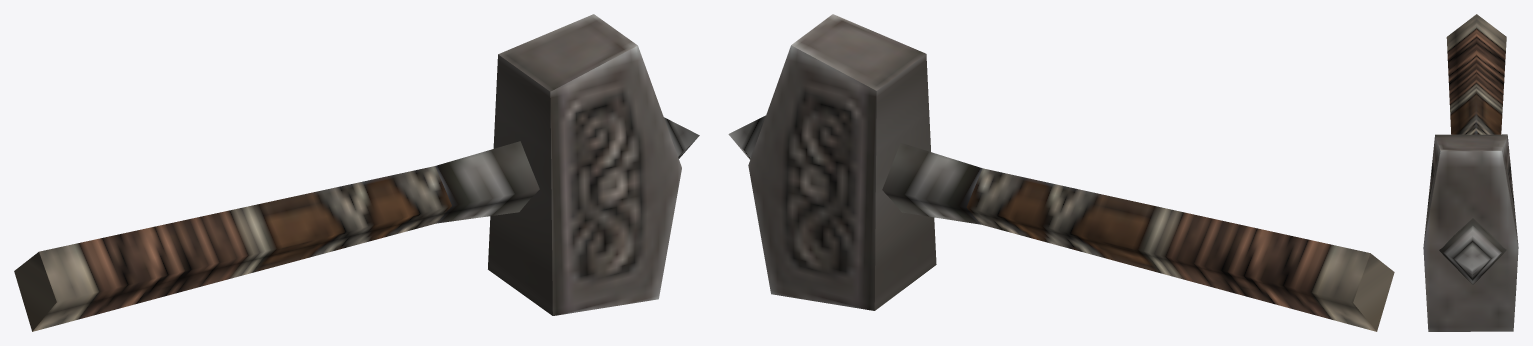
The model's file is BRB_weapon_hammer_B.FBX.glb.
3 views of the same model, side by side, from view 1: azimuth 30°, elevation 25°; view 2: azimuth 150°, elevation 25°; view 3: azimuth 270°, elevation 25° (orthographic). The views are drawn at different scales.
Visible parts, largest first — view 1: BRB_weapon_hammer_B; view 2: BRB_weapon_hammer_B; view 3: BRB_weapon_hammer_B.
Part boxes in pixels (x1,y1,x2,y2): BRB_weapon_hammer_B: (14, 14, 699, 331); BRB_weapon_hammer_B: (728, 14, 1394, 331); BRB_weapon_hammer_B: (1423, 14, 1518, 331).
Size of the model in its own units: 31953 by 11508 by 5625.
Materials: 1 (1 with a texture image).
